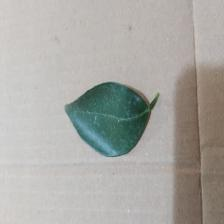healthy: (56, 69, 163, 163)
